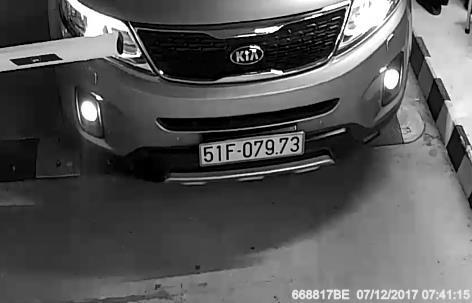License-plate: (193, 130, 311, 173)
